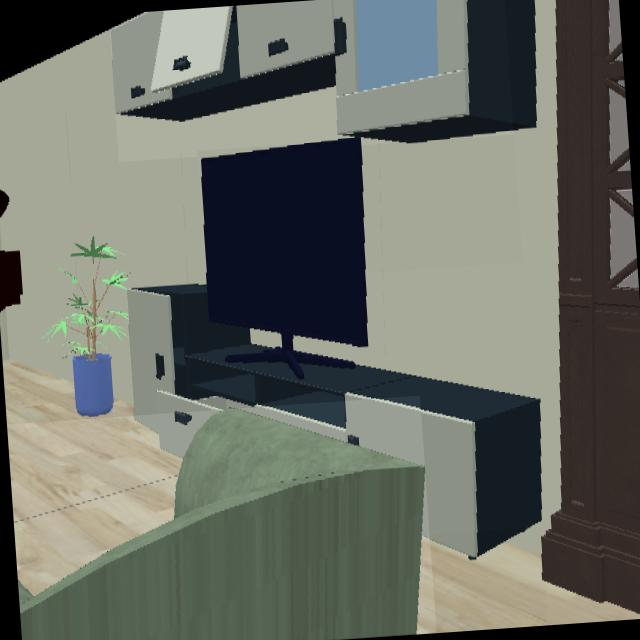bookshelf: (535, 0, 640, 615)
cabinet: (128, 286, 537, 534), (110, 0, 538, 141)
monitor: (200, 142, 367, 346)
sofa: (18, 410, 425, 640)
